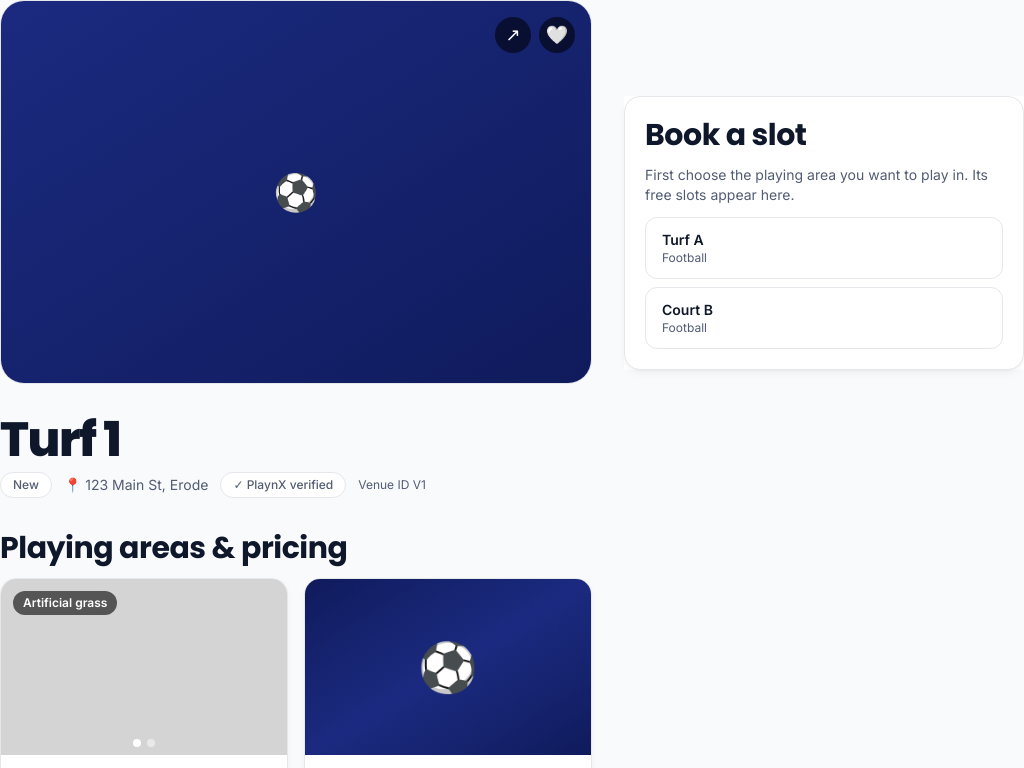
Test: customer: playing areas as cards › an area can also be chosen in the box on the side
The image size is (1024, 768).
What coordinates should you click on to do the following:
click the button "Turf A Football"
I would click on:
 (683, 240)
Its box is [645, 217, 1003, 279].
(page scrolled)
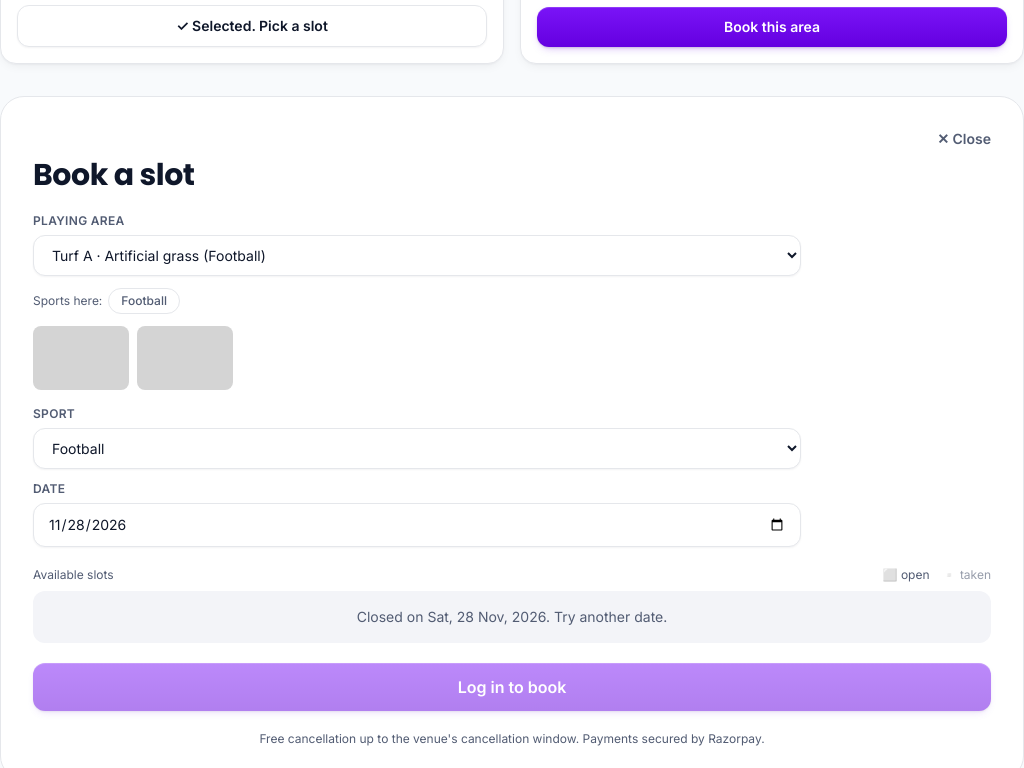
Result: the dropdown labelled "Playing area" shows "Turf A · Artificial grass (Football)" at [33, 235, 801, 276]
